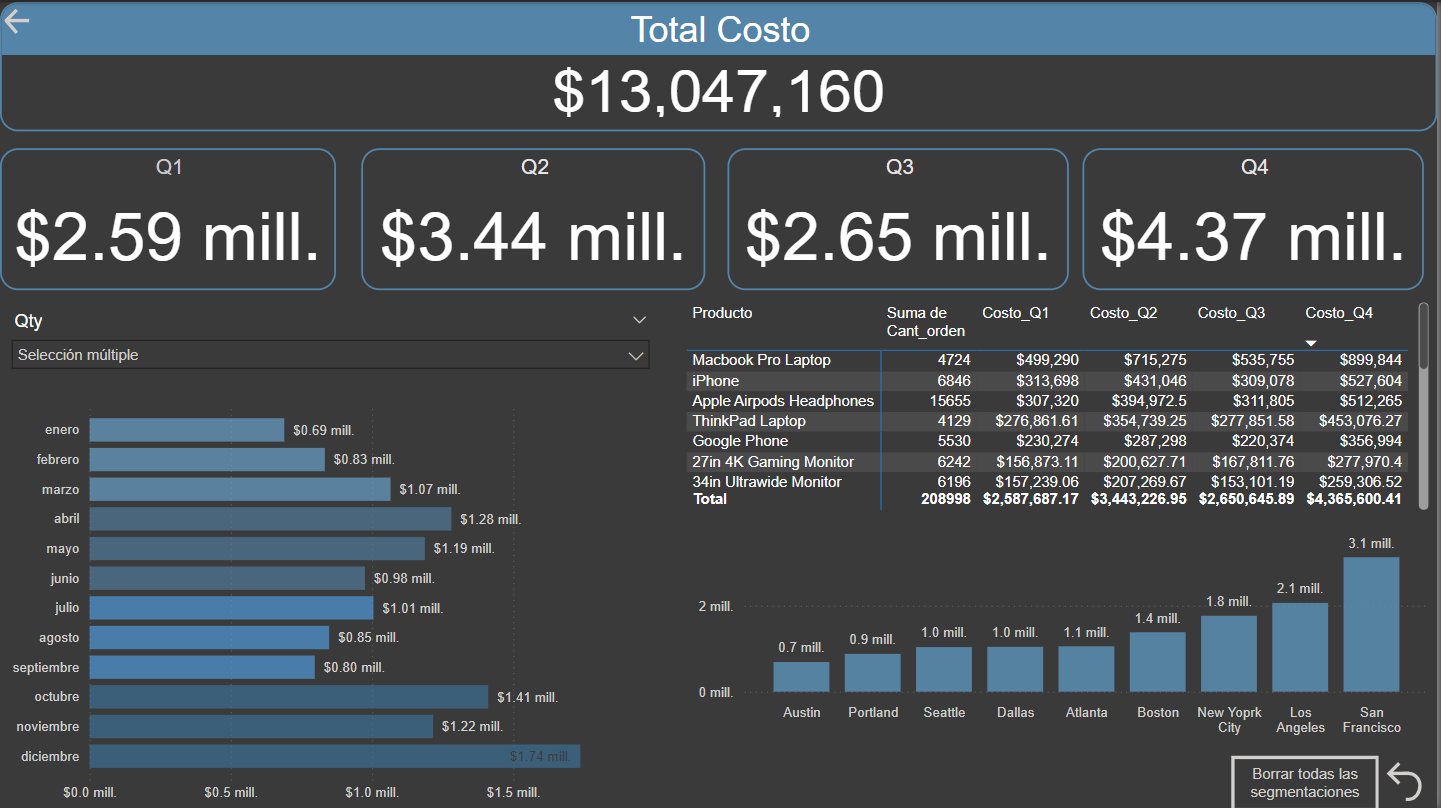

This screenshot's page, from the dashboard's own definition file:
{"tool":"powerbi","page":{"name":"Costos_y_Rentabilidad","canvas":[1280,720],"ordinal":4},"visuals":[{"type":"card","title":"Total Costo","fields":{"Values":["Medidas.Total_Costo"]},"box":[0,0,1280,115],"z":0},{"type":"clusteredBarChart","title":"Costo mensual","fields":{"Category":["Tabla_Calendario.Mes (nombre)","Tabla_Calendario.Trimestre"],"Y":["Medidas.Total_Costo"]},"box":[0,347.5,594.8,372.8],"z":1000},{"type":"card","title":"Q1","fields":{"Values":["Medidas.Costo_Q1"]},"box":[0,130.3,299.2,126.7],"z":2000},{"type":"card","title":"Q2","fields":{"Values":["Medidas.Costo_Q2"]},"box":[322.1,130.3,306.4,126.7],"z":3000},{"type":"card","title":"Q3","fields":{"Values":["Medidas.Costo_Q3"]},"box":[647.9,130.3,304,126.7],"z":4000},{"type":"card","title":"Q4","fields":{"Values":["Medidas.Costo_Q4"]},"box":[963.9,130.3,304,126.7],"z":5000},{"type":"actionButton","box":[1228.2,670.8,49.5,45.8],"z":6000},{"type":"actionButton","box":[0,0,31.4,33.8],"z":7000},{"type":"pivotTable","fields":{"Rows":["Producto.Producto"],"Values":["Sum(Orden_de_compra.Cant_orden)","Medidas.Costo_Q1","Medidas.Costo_Q2","Medidas.Costo_Q3","Medidas.Costo_Q4"]},"box":[606.8,263,670.8,194.2],"z":8000},{"type":"actionButton","box":[1096.7,670.8,131.5,49.5],"z":9000},{"type":"columnChart","fields":{"Category":["Ciudad.Nombre_ciudad"],"Y":["Sum(Orden_de_compra.Costo_Total)"]},"box":[616.5,457.2,661.1,203.9],"z":10000},{"type":"slicer","fields":{"Values":["Tabla_Calendario.Trimestre"]},"box":[0,270.2,588.7,77.2],"z":11000}]}

Visuals, with their boxes in screenshot pixels (x1, y1, x2, y2), scaled from the page's 1280x720 canvas onto the 1441x808 screenshot:
"Total Costo" card: {"x1": 0, "y1": 0, "x2": 1440, "y2": 129}
"Costo mensual" clusteredBarChart: {"x1": 0, "y1": 390, "x2": 670, "y2": 807}
"Q1" card: {"x1": 0, "y1": 146, "x2": 337, "y2": 288}
"Q2" card: {"x1": 363, "y1": 146, "x2": 708, "y2": 288}
"Q3" card: {"x1": 729, "y1": 146, "x2": 1072, "y2": 288}
"Q4" card: {"x1": 1085, "y1": 146, "x2": 1427, "y2": 288}
actionButton: {"x1": 1383, "y1": 753, "x2": 1438, "y2": 804}
actionButton: {"x1": 0, "y1": 0, "x2": 35, "y2": 38}
pivotTable - Producto.Producto x Sum(Orden_de_compra.Cant_orden): {"x1": 683, "y1": 295, "x2": 1438, "y2": 513}
actionButton: {"x1": 1235, "y1": 753, "x2": 1383, "y2": 807}
columnChart - Ciudad.Nombre_ciudad x Sum(Orden_de_compra.Costo_Total): {"x1": 694, "y1": 513, "x2": 1438, "y2": 742}
slicer - Tabla_Calendario.Trimestre: {"x1": 0, "y1": 303, "x2": 663, "y2": 390}
